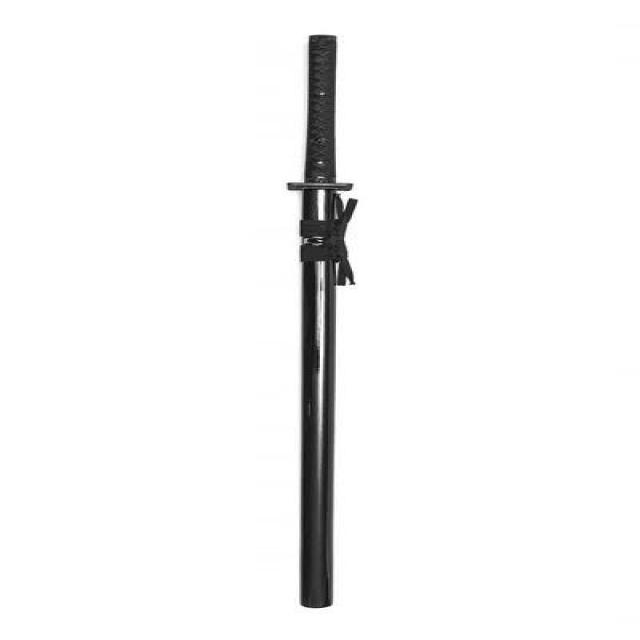Pole: (288, 35, 355, 609)
